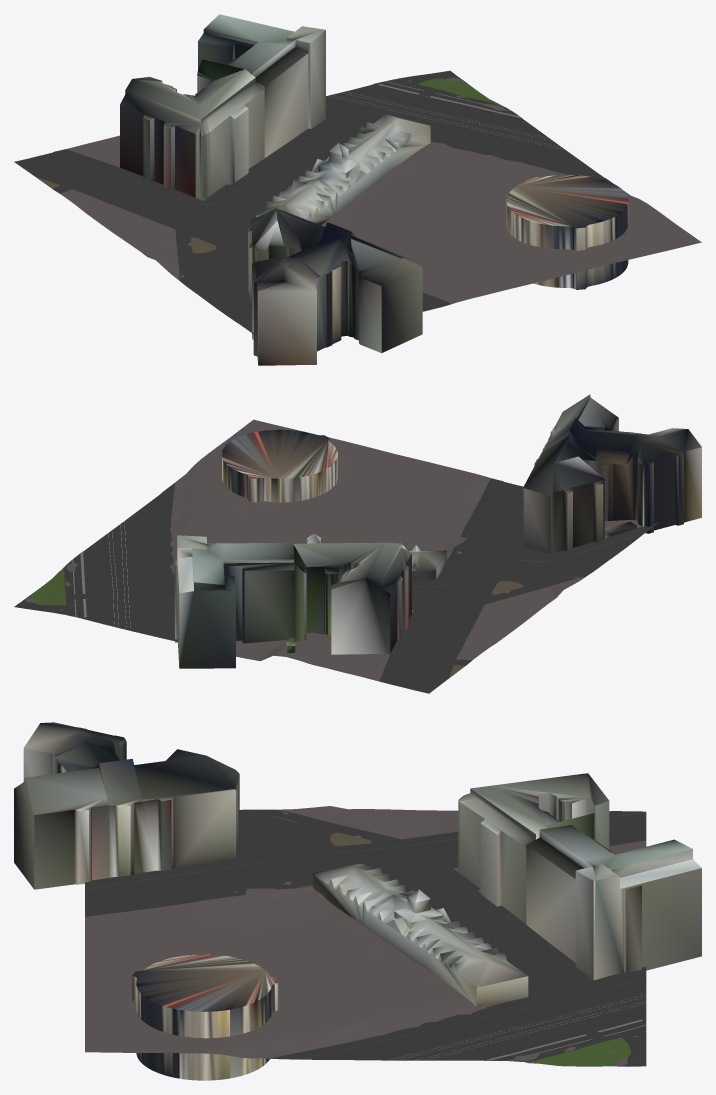
3 renders of one model, top to bottom at view 1: azimuth 30°, elevation 25°; view 2: azimuth 150°, elevation 25°; view 3: azimuth 270°, elevation 25°, orthographic. The views are drawn at different scales.
Parts seen in each view (by area): view 1: c_m10_m06; view 2: c_m10_m06; view 3: c_m10_m06.
Boxes of the visible parts, x1,y1,x2,y2 form: c_m10_m06: (14,14,701,365); c_m10_m06: (14,394,701,693); c_m10_m06: (14,722,701,1080).
Size of the model in its own units: 134 by 36.48 by 157.
